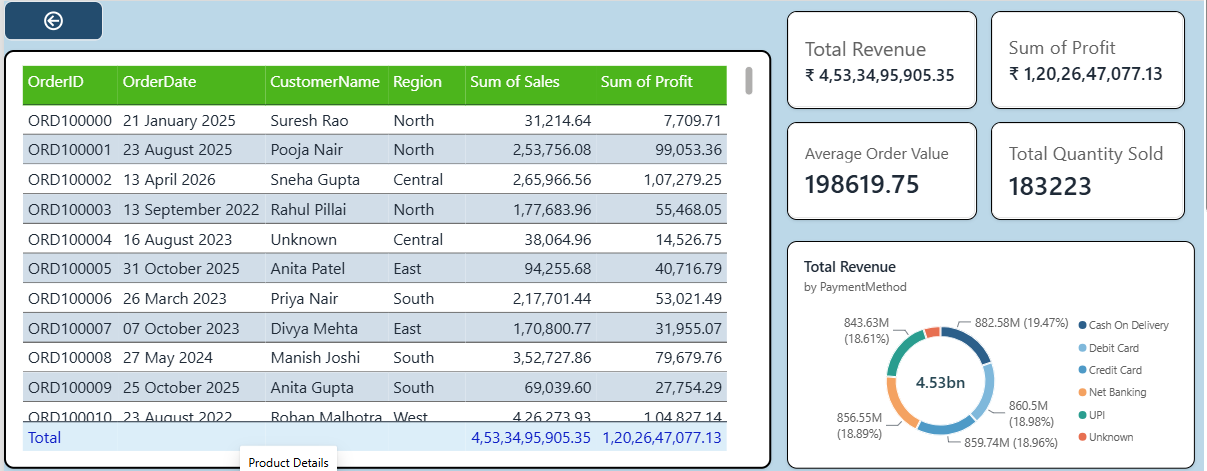

What the dashboard file says about the page in this screenshot:
{"tool":"powerbi","page":{"name":"Product Details","canvas":[1920,1080],"ordinal":1},"visuals":[{"type":"actionButton","box":[0,0,100,40],"z":0},{"type":"tableEx","fields":{"Values":["sales_data_clean.OrderID","sales_data_clean.OrderDate","sales_data_clean.CustomerName","sales_data_clean.Region","Sum(sales_data_clean.Sales)","Sum(sales_data_clean.Profit)"]},"box":[0,49.5,774.7,423.2],"z":1000},{"type":"cardVisual","fields":{"Data":["sales_data_clean.Total Revenue"]},"box":[790.9,10.1,191.9,99],"z":2000},{"type":"cardVisual","fields":{"Data":["Sum(sales_data_clean.Profit)"]},"box":[997,10.1,196,99],"z":3000},{"type":"cardVisual","fields":{"Data":["sales_data_clean.Average Order Value"]},"box":[790.9,122.2,191.9,99],"z":4000},{"type":"cardVisual","fields":{"Data":["sales_data_clean.Total Quantity Sold"]},"box":[997,122.2,196,99],"z":5000},{"type":"donutChart","fields":{"Category":["sales_data_clean.PaymentMethod"],"Y":["sales_data_clean.Total Revenue"]},"box":[790.9,242.4,412.1,230.3],"z":6000}]}

Visuals, with their boxes on the page's 1920x1080 design canvas (x1, y1, x2, y2). These are canvas units, not pixel positions in the 1207x471 screenshot, which may show the page scaled, cropped or inside an application window:
actionButton: 0 0 100 40
tableEx - sales_data_clean.OrderID x sales_data_clean.OrderDate: 0 50 775 473
cardVisual - sales_data_clean.Total Revenue: 791 10 983 109
cardVisual - Sum(sales_data_clean.Profit): 997 10 1193 109
cardVisual - sales_data_clean.Average Order Value: 791 122 983 221
cardVisual - sales_data_clean.Total Quantity Sold: 997 122 1193 221
donutChart - sales_data_clean.PaymentMethod x sales_data_clean.Total Revenue: 791 242 1203 473
